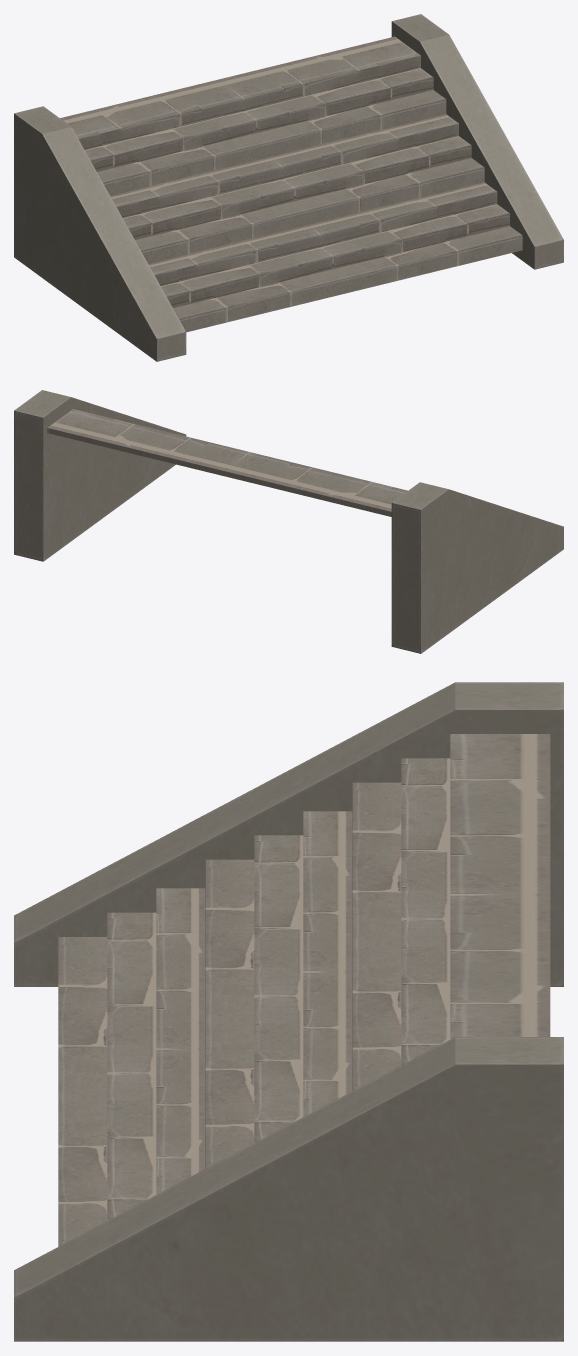
Rendered from mod_zlc_jianzhu077_xy.FBX.
3 views of the same model, one above another, from view 1: azimuth 30°, elevation 25°; view 2: azimuth 150°, elevation 25°; view 3: azimuth 270°, elevation 25° (orthographic). The views are drawn at different scales.
Visible parts, largest first — view 1: mod_zlc_jianzhu077_xy; view 2: mod_zlc_jianzhu077_xy; view 3: mod_zlc_jianzhu077_xy.
Boxes of the visible parts, left/top/right/bottom form: mod_zlc_jianzhu077_xy: left=14, top=14, right=563, bottom=361; mod_zlc_jianzhu077_xy: left=14, top=390, right=563, bottom=653; mod_zlc_jianzhu077_xy: left=14, top=682, right=563, bottom=1341.
Size of the model in its own units: 355 by 120 by 216.
Materials: 1 (1 with a texture image).
